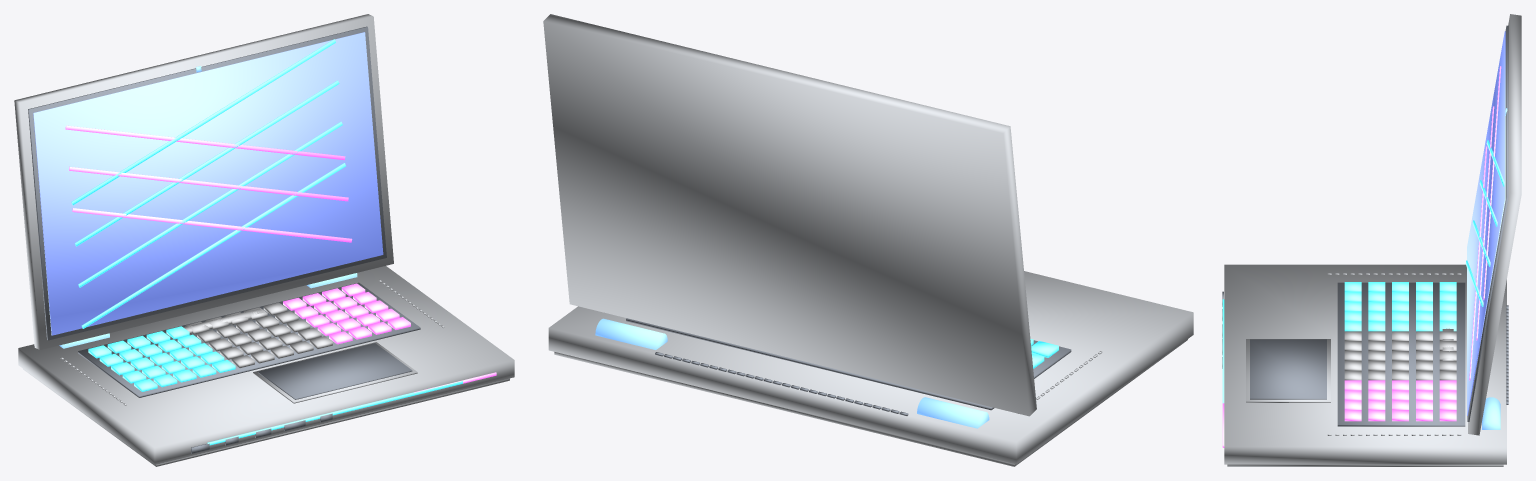
The model's file is laptop.glb.
3 views of the same model, side by side, from view 1: azimuth 30°, elevation 25°; view 2: azimuth 150°, elevation 25°; view 3: azimuth 270°, elevation 25° (orthographic). The views are drawn at different scales.
Visible parts, largest first — view 1: Display glow base, Aluminium base, Display housing, Screen bezel, Trackpad glass, Keyboard inset, Nebula ribbon 6, Nebula ribbon 0, Nebula ribbon 2, Nebula ribbon 4, Nebula ribbon 1, Nebula ribbon 3 (+4 smaller); view 2: Display housing, Aluminium base, Underside rim, Keyboard inset, Hinge_1.65, Hinge_-1.65; view 3: Aluminium base, Keyboard inset, Display glow base, Display housing, Trackpad glass, Screen bezel, Trackpad border, Underside rim, Hinge_1.65, Nebula ribbon 3, Nebula ribbon 5, Nebula ribbon 1.
Part boxes in pixels (<box>): Display glow base: <box>33,32,383,335</box>; Aluminium base: <box>18,266,514,464</box>; Display housing: <box>14,14,393,349</box>; Screen bezel: <box>28,26,386,340</box>; Trackpad glass: <box>258,343,412,399</box>; Keyboard inset: <box>78,282,420,397</box>; Nebula ribbon 6: <box>71,39,335,205</box>; Nebula ribbon 0: <box>81,163,345,328</box>; Nebula ribbon 2: <box>78,121,342,287</box>; Nebula ribbon 4: <box>75,80,339,246</box>; Nebula ribbon 1: <box>72,208,352,242</box>; Nebula ribbon 3: <box>68,166,348,201</box>; Display housing: <box>543,14,1036,416</box>; Aluminium base: <box>548,271,1193,464</box>; Underside rim: <box>554,339,1187,466</box>; Keyboard inset: <box>626,318,1071,410</box>; Hinge_1.65: <box>595,318,667,349</box>; Hinge_-1.65: <box>917,397,989,428</box>; Aluminium base: <box>1224,264,1506,464</box>; Keyboard inset: <box>1337,282,1465,426</box>; Display glow base: <box>1467,31,1505,415</box>; Display housing: <box>1468,14,1521,435</box>; Trackpad glass: <box>1250,339,1326,399</box>; Screen bezel: <box>1467,25,1508,421</box>; Trackpad border: <box>1246,339,1330,402</box>; Underside rim: <box>1227,464,1503,466</box>; Hinge_1.65: <box>1482,397,1500,429</box>; Nebula ribbon 3: <box>1476,106,1494,340</box>; Nebula ribbon 5: <box>1483,66,1501,300</box>; Nebula ribbon 1: <box>1469,146,1487,380</box>.
Size of the model in its own units: 0.34 by 0.2415 by 0.2363.
